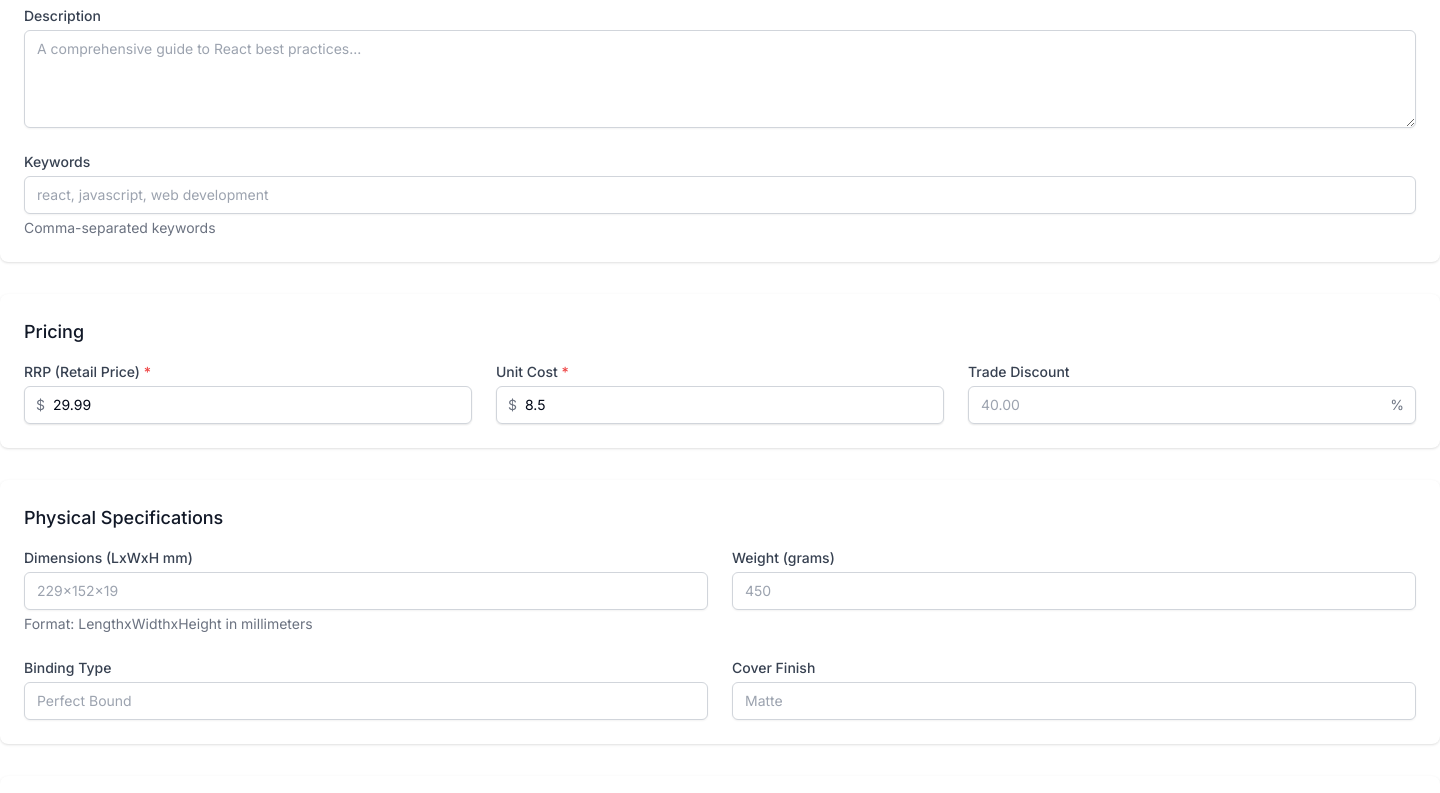
TitleForm Component › Edit Mode Price Change Tracking › should show price change reason field when unit cost changes
(page scrolled)
Replace the text in the number field labelled "Unit Cost *" with "9.00": (720, 405) [496,386,944,424]
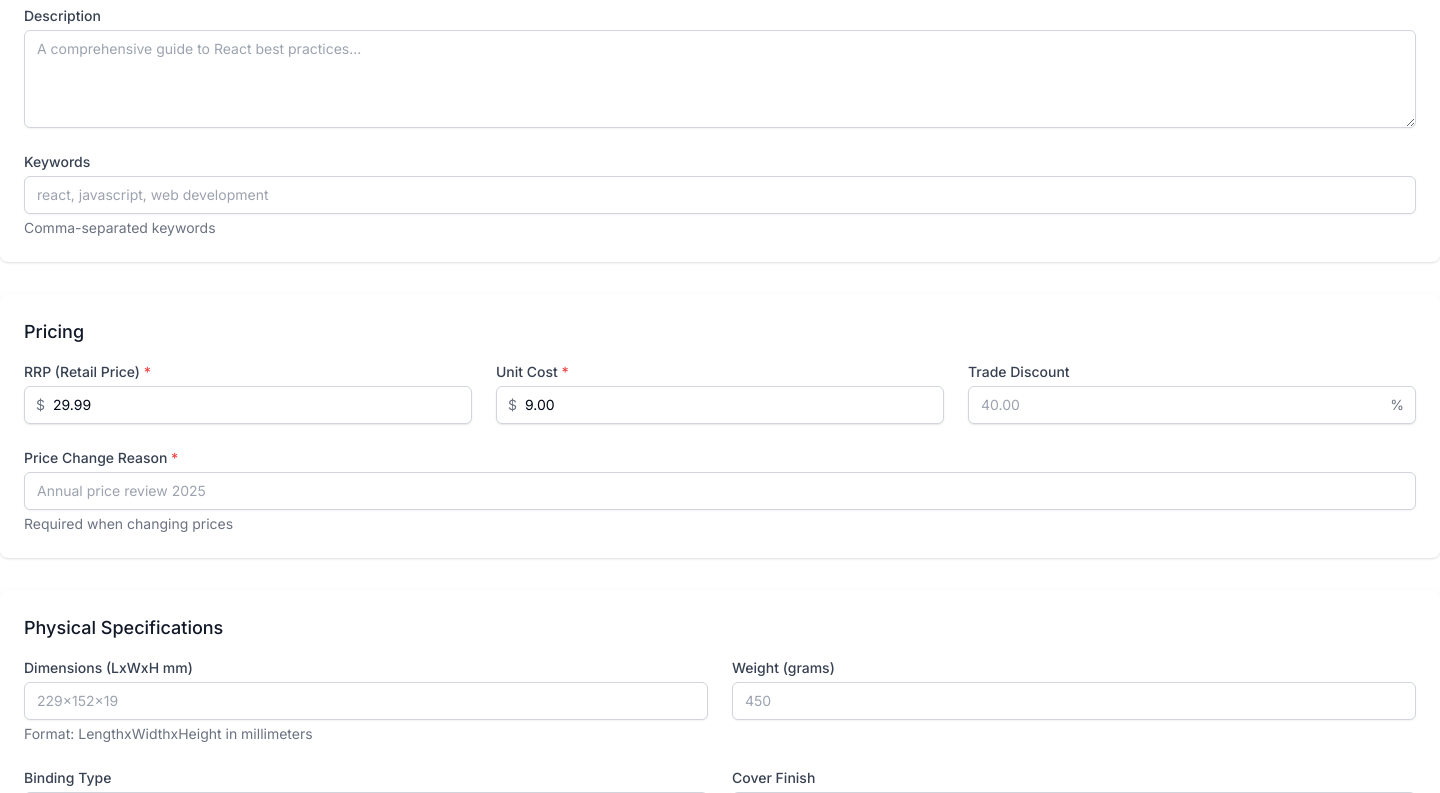
Result: the field labelled "Price Change Reason *" is shown at [24,472,1416,510]
